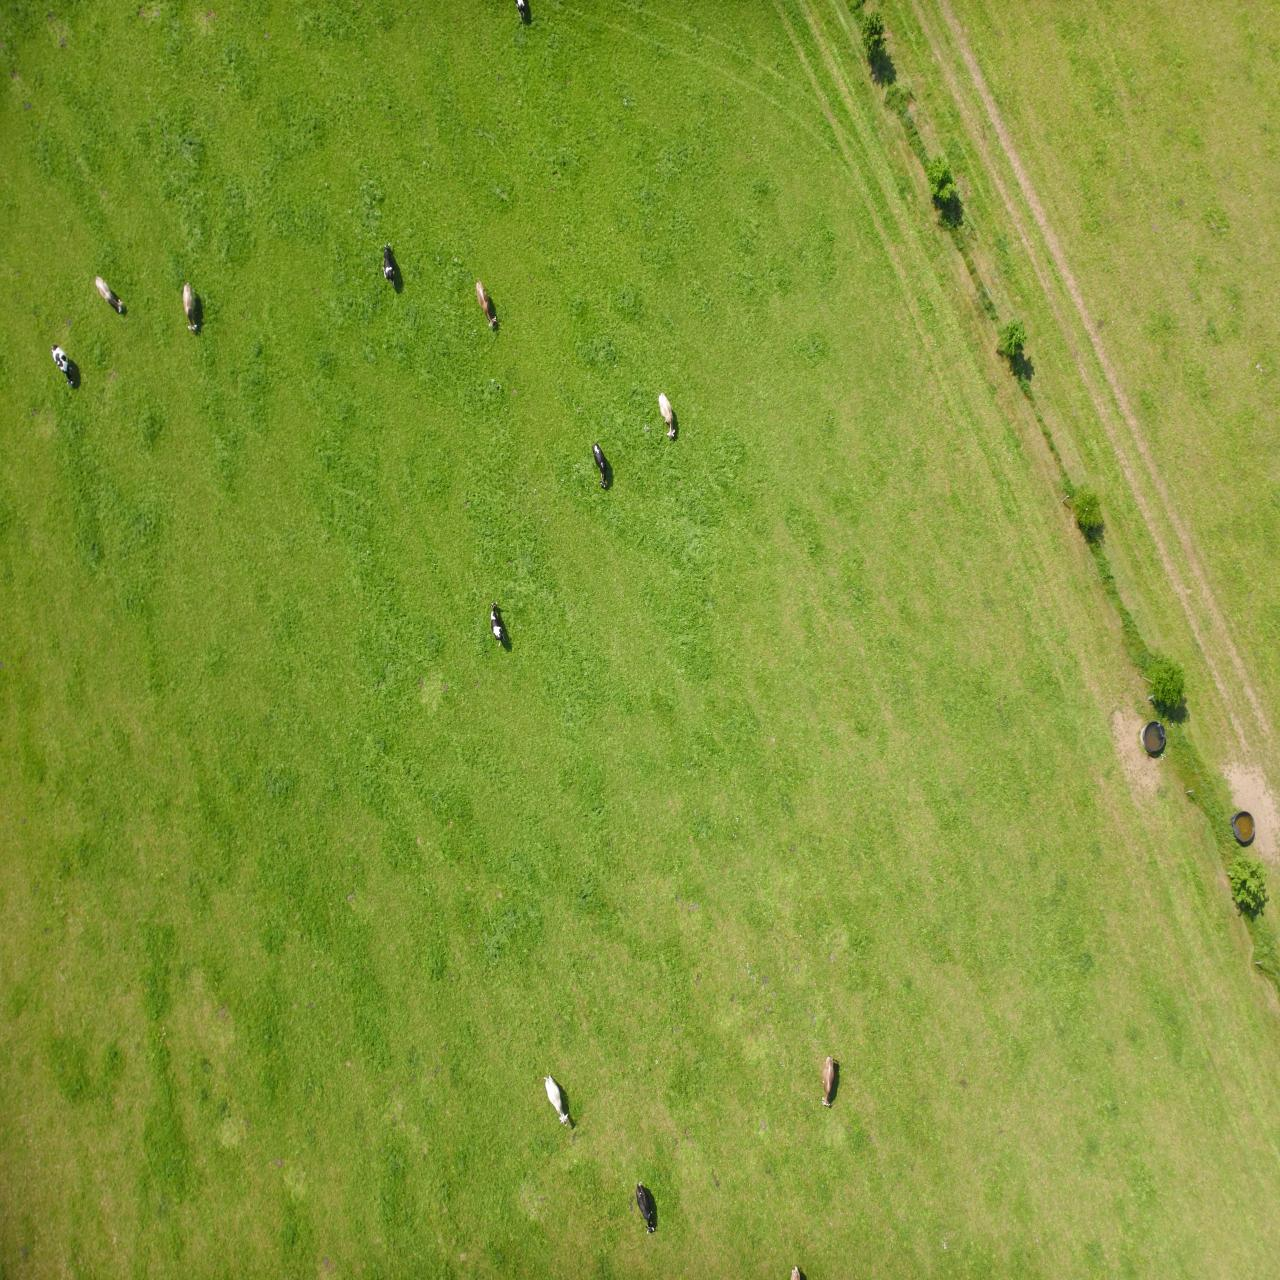cow: (89, 272, 130, 321), (542, 1069, 574, 1128), (471, 272, 501, 335), (588, 434, 617, 499), (49, 338, 80, 397), (633, 1179, 660, 1235), (181, 282, 206, 336), (655, 390, 681, 444), (379, 237, 403, 290), (486, 599, 509, 649), (819, 1055, 839, 1110)
